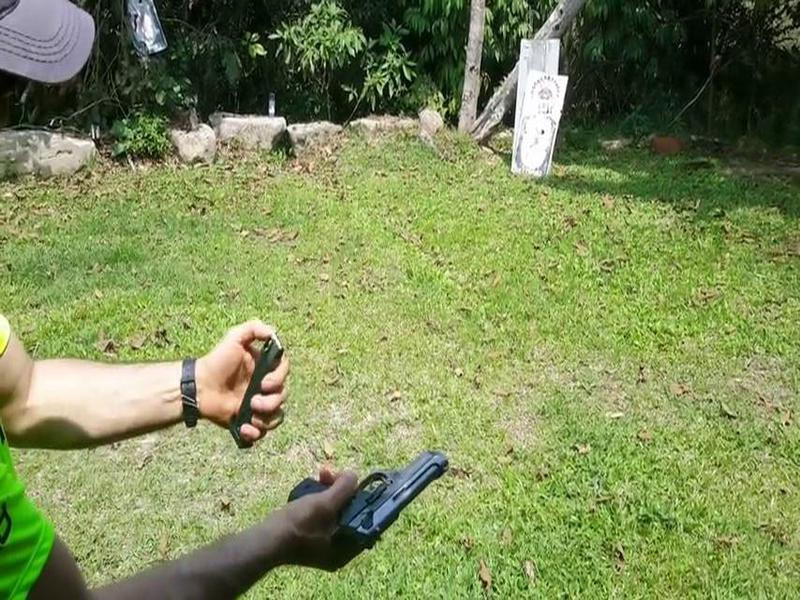Pistola: (286, 444, 464, 552)
